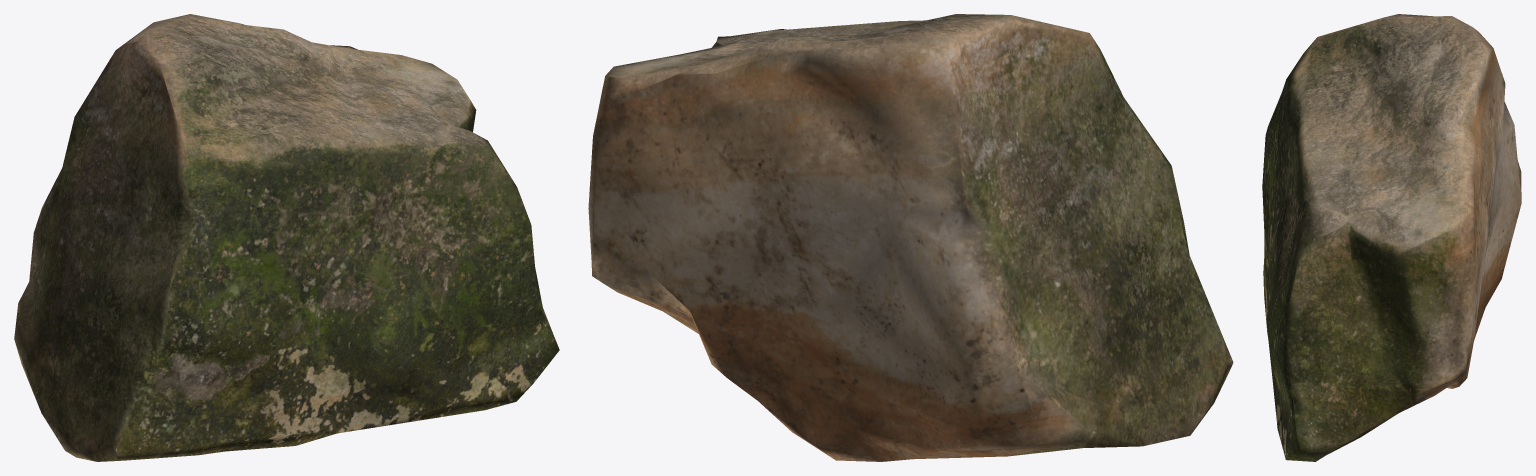
The model's file is MediumRock.fbx.
The picture shows the model from 3 angles, left to right: view 1: azimuth 30°, elevation 25°; view 2: azimuth 150°, elevation 25°; view 3: azimuth 270°, elevation 25°; orthographic projection. The views are drawn at different scales.
Visible parts, largest first — view 1: LV_Common_Rock_Medium02_SM_LBR; view 2: LV_Common_Rock_Medium02_SM_LBR; view 3: LV_Common_Rock_Medium02_SM_LBR.
Boxes of the visible parts, x1,y1,x2,y2 form: LV_Common_Rock_Medium02_SM_LBR: [14, 14, 559, 461]; LV_Common_Rock_Medium02_SM_LBR: [588, 14, 1233, 461]; LV_Common_Rock_Medium02_SM_LBR: [1262, 14, 1521, 461].
Bounding box in the file's own units: 40.3 × 30.94 × 21.91.
